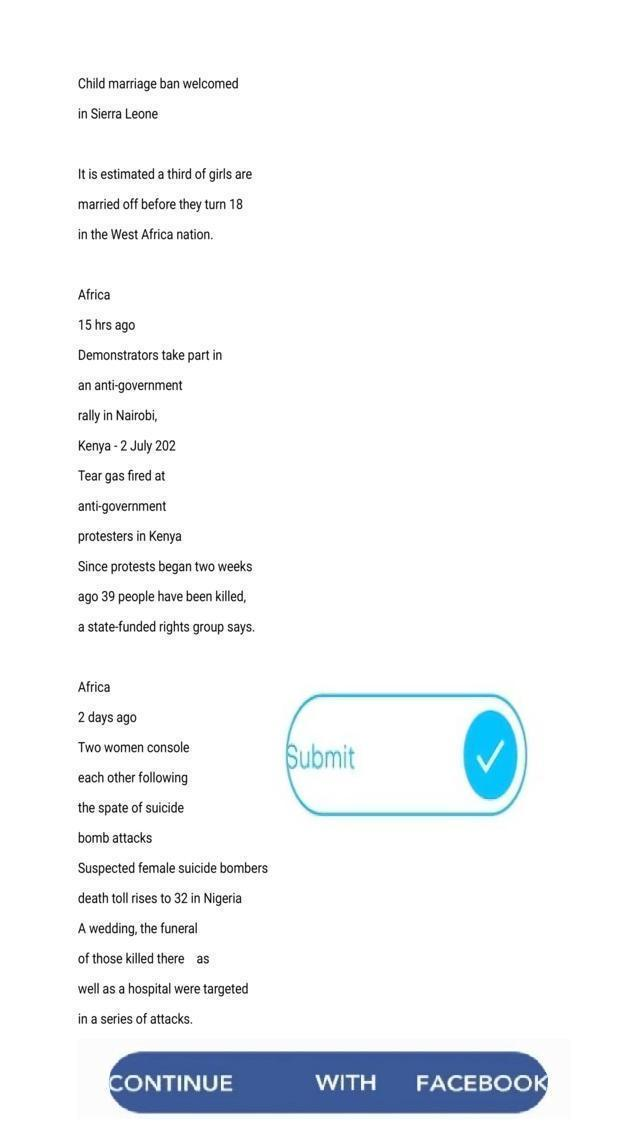Text: (72, 856, 276, 880), (72, 616, 256, 640), (74, 976, 253, 1000), (72, 163, 256, 185), (73, 194, 247, 216), (74, 587, 253, 608), (76, 888, 246, 908), (74, 74, 242, 94), (76, 559, 256, 577), (74, 345, 224, 366), (74, 946, 213, 968), (73, 738, 194, 762), (72, 222, 215, 242), (76, 1009, 198, 1032), (73, 796, 188, 819), (72, 768, 192, 790), (76, 375, 188, 396), (76, 919, 202, 937), (74, 528, 184, 548), (74, 436, 182, 456), (74, 406, 161, 428), (75, 498, 168, 518), (74, 467, 170, 486), (74, 826, 156, 848), (72, 104, 162, 124), (73, 707, 141, 729), (76, 316, 138, 335), (76, 285, 114, 304), (76, 680, 112, 698)
TextButton: (107, 1046, 548, 1114), (284, 694, 524, 813)
WS1: (524, 1066, 564, 1102), (92, 1068, 130, 1100), (268, 737, 298, 776)
